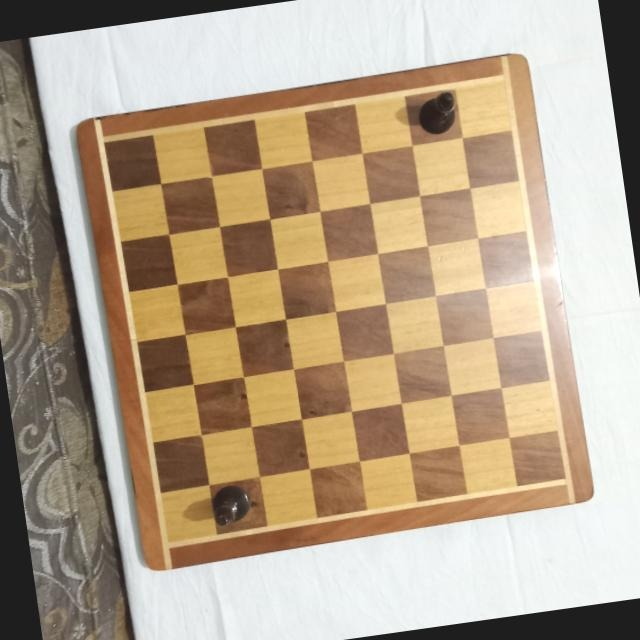black-bishop: (416, 88, 460, 137), (206, 484, 253, 528)
